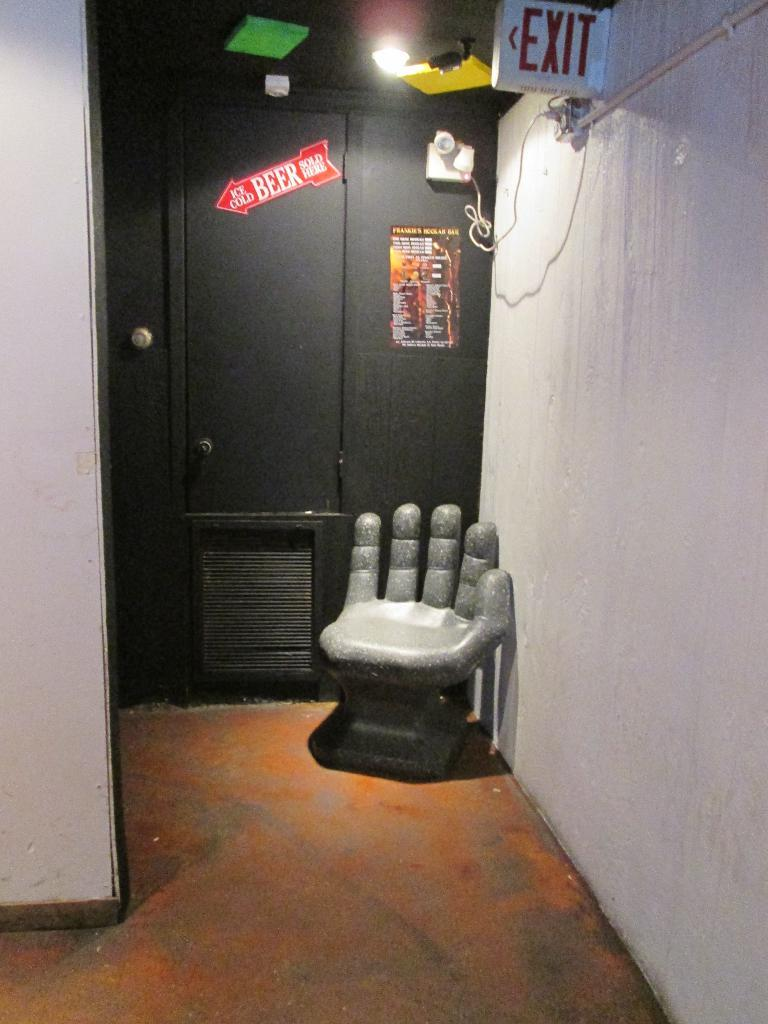Chair: (321, 500, 508, 776)
